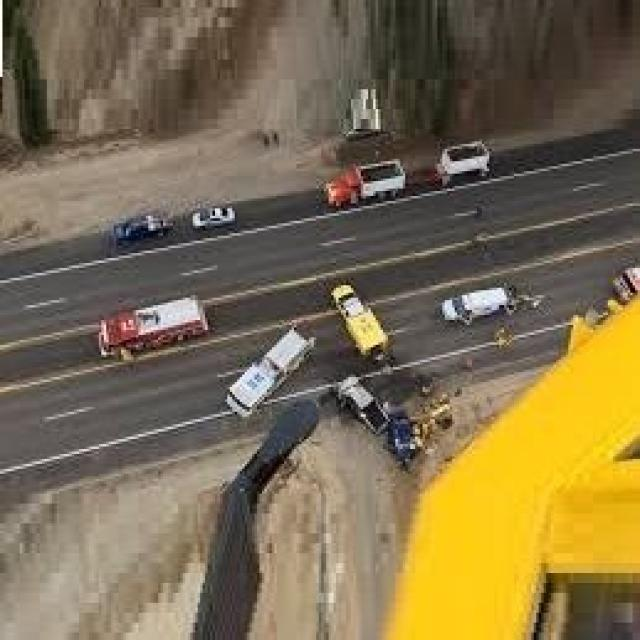traffic_incident: (318, 342, 454, 511)
